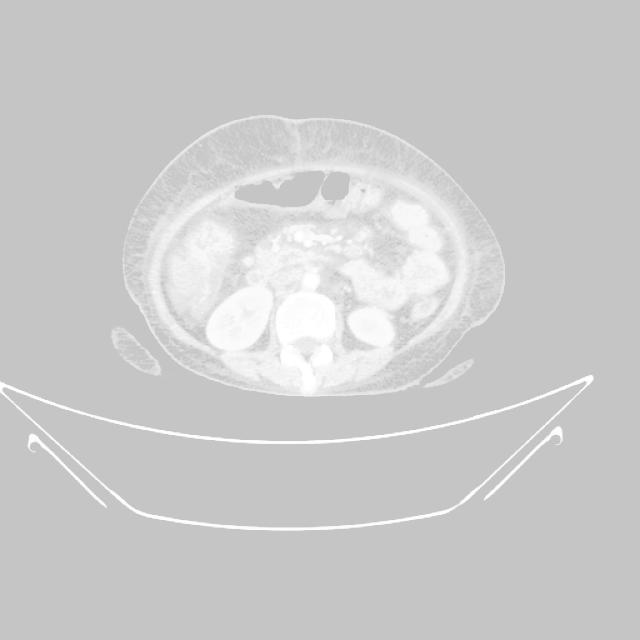NORMAL: (106, 107, 498, 452)
